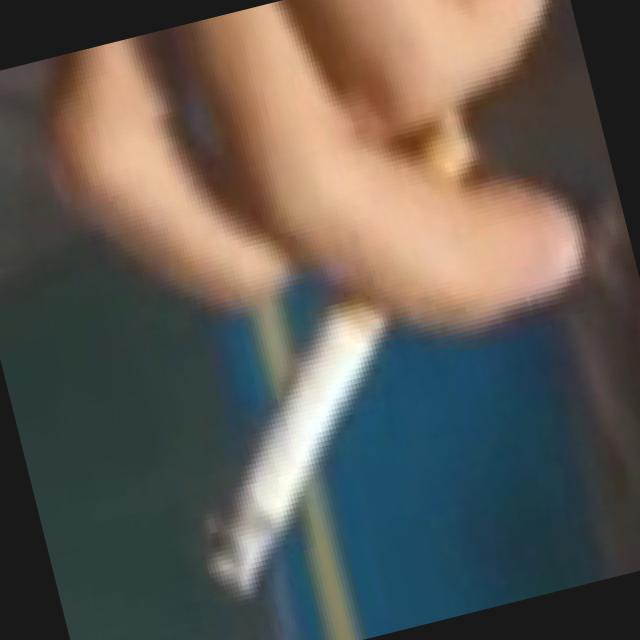smoke: (100, 83, 594, 628)
